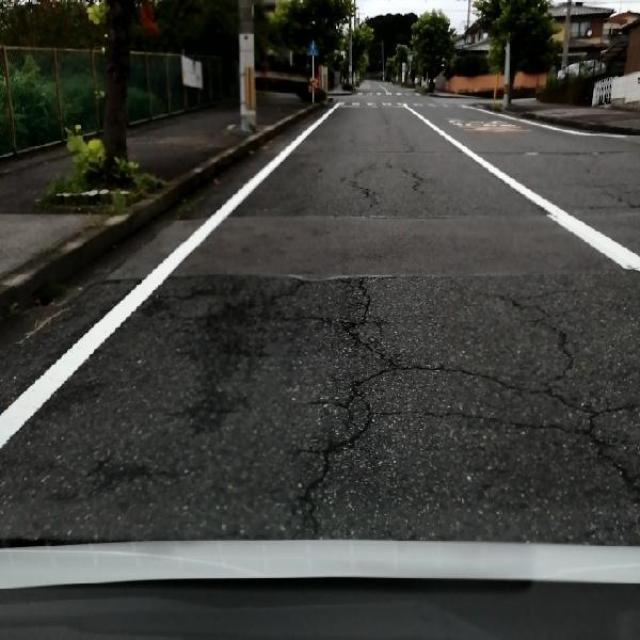Crack: (490, 293, 640, 528), (292, 281, 412, 551), (332, 148, 454, 212)
